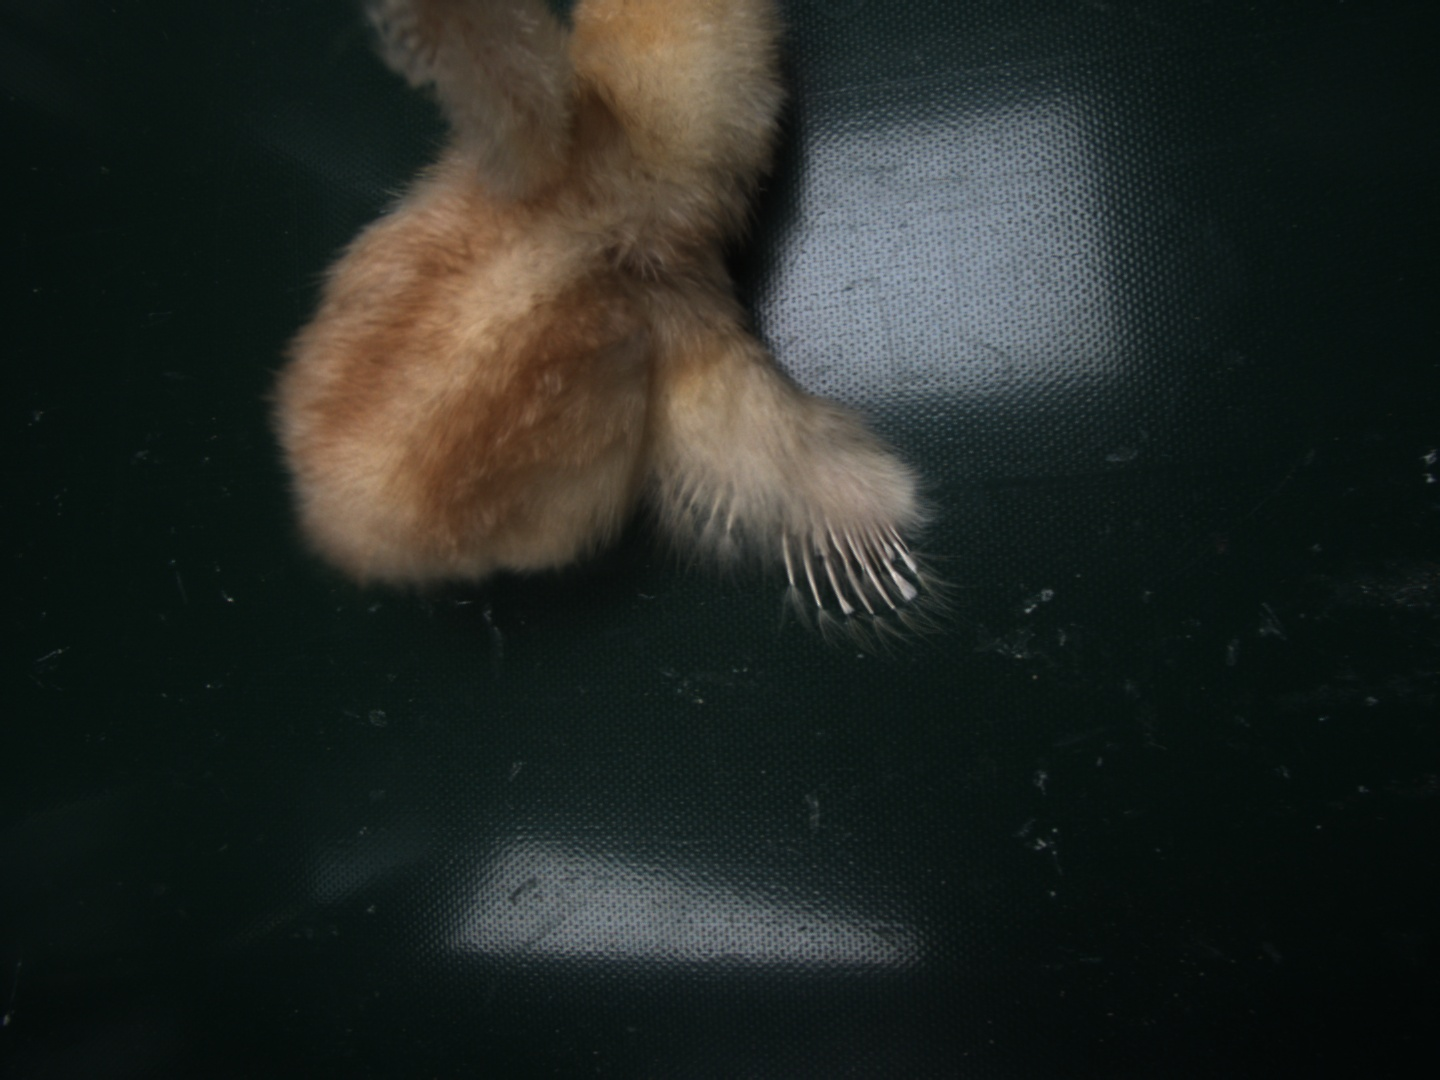female: (778, 514, 921, 616)
